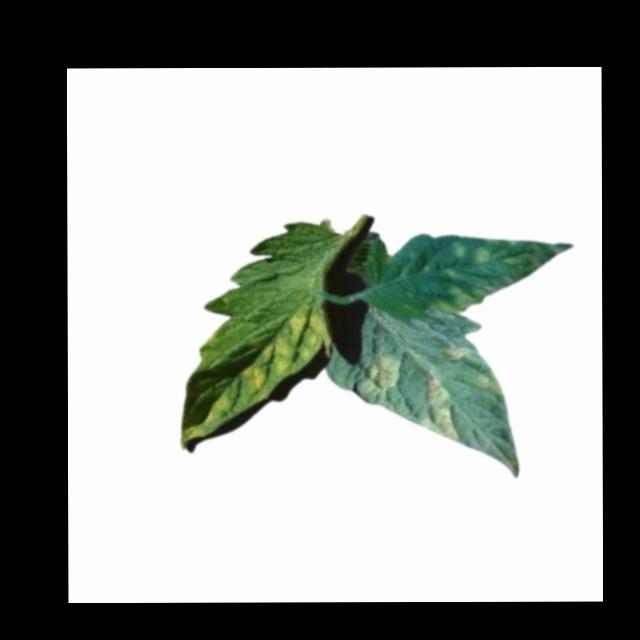Leaf_Mold: (243, 308, 333, 392), (416, 368, 460, 442), (355, 354, 403, 396), (433, 286, 477, 312), (203, 395, 228, 424), (438, 343, 471, 362), (447, 241, 468, 262), (473, 244, 491, 266)
